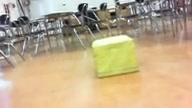cube: (92, 35, 136, 78)
